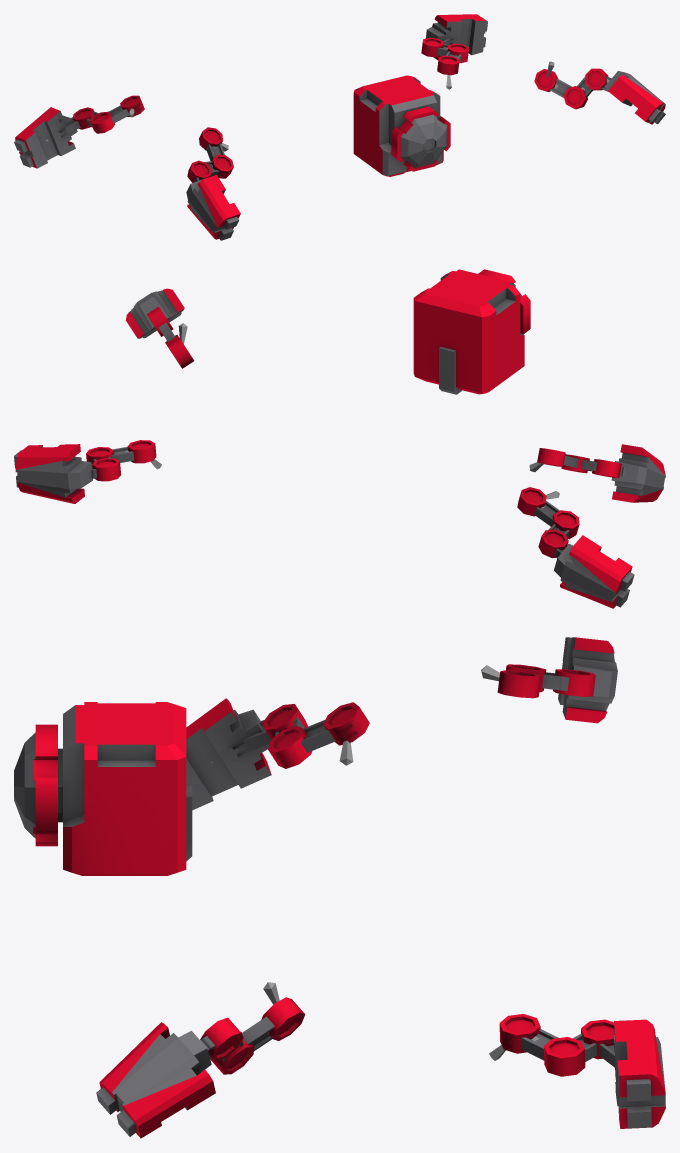
File: Monster1_Die10.obj
3 views of the same model, one above another, from view 1: azimuth 30°, elevation 25°; view 2: azimuth 150°, elevation 25°; view 3: azimuth 270°, elevation 25° (orthographic). The views are drawn at different scales.
Visible parts, largest first — view 1: Box006, Object025, Object021, Object013, Object017, Object018, Object022, Object019, Object026, Object023, Object020, Object027 (+5 smaller); view 2: Box006, Object013, Object025, Object021, Object017, Object026, Object014, Object028, Object016, Object027, Object022; view 3: Box006, Object017, Object021, Object013, Object025, Object022, Object018, Object014, Object015, Object023, Object024, Object020 (+5 smaller).
Part boxes in pixels (bbox=[...]): Box006: bbox=[353, 75, 450, 176]; Object025: bbox=[14, 107, 77, 168]; Object021: bbox=[186, 175, 240, 240]; Object013: bbox=[425, 14, 487, 60]; Object017: bbox=[605, 71, 665, 124]; Object018: bbox=[534, 69, 571, 97]; Object022: bbox=[199, 127, 224, 160]; Object019: bbox=[563, 76, 592, 109]; Object026: bbox=[108, 95, 144, 123]; Object023: bbox=[204, 154, 233, 178]; Object020: bbox=[585, 68, 611, 91]; Object027: bbox=[86, 111, 115, 133]; Box006: bbox=[413, 269, 530, 394]; Object013: bbox=[14, 444, 92, 503]; Object025: bbox=[554, 535, 634, 608]; Object021: bbox=[611, 444, 665, 502]; Object017: bbox=[125, 288, 184, 338]; Object026: bbox=[517, 487, 559, 526]; Object014: bbox=[111, 440, 156, 463]; Object028: bbox=[538, 529, 568, 558]; Object016: bbox=[87, 458, 121, 481]; Object027: bbox=[548, 510, 579, 539]; Object022: bbox=[537, 448, 578, 467]; Box006: bbox=[14, 702, 192, 875]; Object017: bbox=[96, 1022, 215, 1138]; Object021: bbox=[186, 698, 271, 810]; Object013: bbox=[613, 1019, 665, 1128]; Object025: bbox=[558, 637, 617, 723]; Object022: bbox=[300, 702, 369, 752]; Object018: bbox=[241, 997, 305, 1050]; Object014: bbox=[499, 1014, 558, 1060]; Object015: bbox=[544, 1033, 596, 1076]; Object023: bbox=[268, 716, 312, 768]; Object024: bbox=[243, 704, 307, 750]; Object020: bbox=[200, 1017, 243, 1061].
Bounding box in the file's own units: 456 × 100 × 267.
